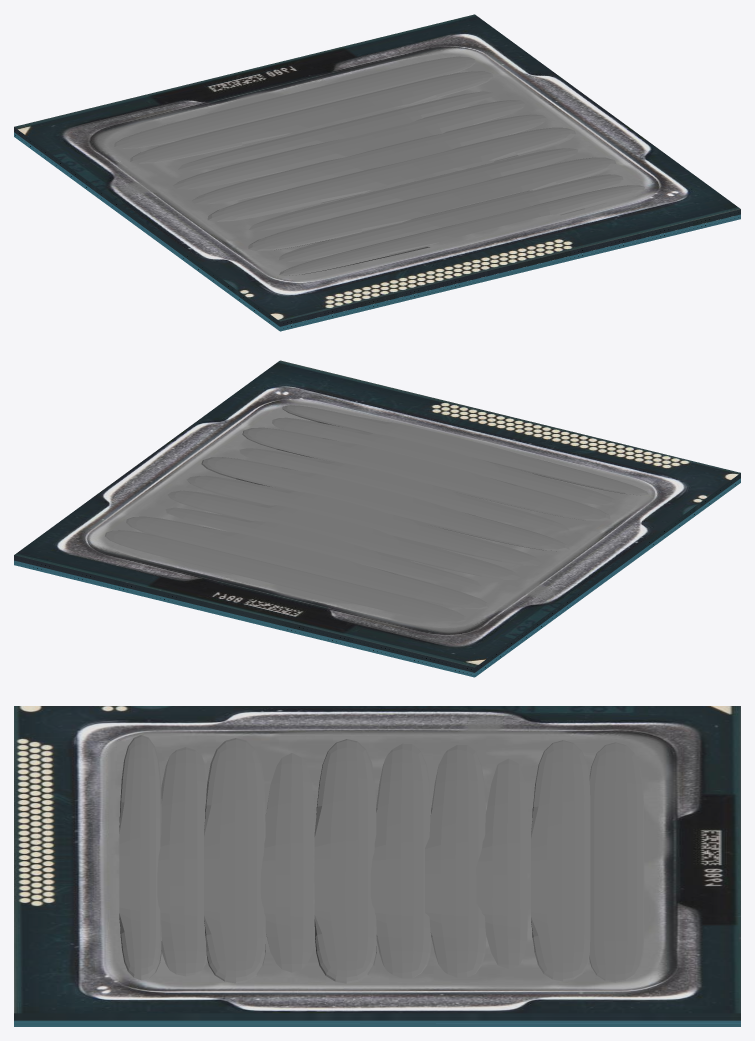
File: проц с черкашом2.fbx
3 renders of one model, top to bottom at view 1: azimuth 30°, elevation 25°; view 2: azimuth 150°, elevation 25°; view 3: azimuth 270°, elevation 25°, orthographic. The views are drawn at different scales.
Visible parts, largest first — view 1: Cube.001, Cube.002, Cube; view 2: Cube.001, Cube.002, Cube; view 3: Cube.001, Cube.002, Cube.
Part boxes in pixels (x1,y1,x2,y2): Cube.001: (14, 14, 740, 326); Cube.002: (114, 56, 644, 275); Cube: (14, 132, 740, 331); Cube.001: (14, 360, 740, 672); Cube.002: (105, 405, 648, 622); Cube: (14, 478, 740, 677); Cube.001: (14, 706, 740, 1020); Cube.002: (119, 735, 644, 983); Cube: (14, 1020, 740, 1026).
Size of the model in its own units: 200 by 5.84 by 200.
Materials: 3 (2 with a texture image).
